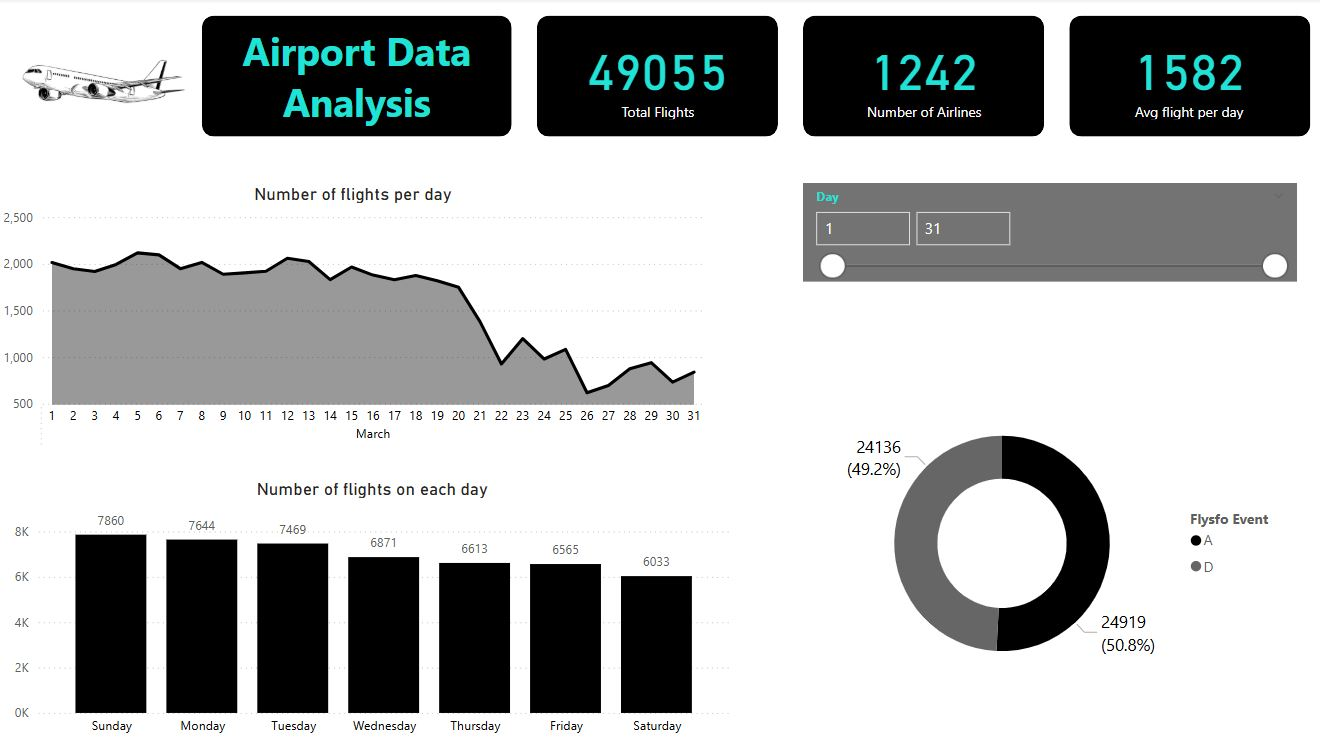

The page's visual inventory and layout, read from the dashboard file:
{"tool":"powerbi","page":{"name":"Dashboard","canvas":[1280,720],"ordinal":0},"visuals":[{"type":"shape","box":[520.1,17.3,232.8,117],"z":0},{"type":"shape","box":[777,17.3,232.8,117],"z":1000},{"type":"shape","box":[1033.6,17.3,232.8,117],"z":2000},{"type":"card","fields":{"Values":["Mearures_Airport.Avg flight per day"]},"box":[1058,29,183.4,92.9],"z":3000},{"type":"image","box":[10.9,0,178.6,152],"z":4000},{"type":"shape","box":[196.9,17.3,299.2,117],"z":5000},{"type":"textbox","box":[206.5,20.8,279.9,113.4],"z":6000},{"type":"card","fields":{"Values":["Mearures_Airport.Number of Airlines"]},"box":[802.3,29,183.4,92.9],"z":7000},{"type":"card","fields":{"Values":["Mearures_Airport.Total Flights"]},"box":[534.5,29,205.1,92.9],"z":8000},{"type":"lineChart","title":"Number of flights per day","fields":{"Y":["CountNonNull(Air travel data.Properties Flysfo Base Airline)"],"Category":["Air travel data.Start of Day.Variation.Date Hierarchy.Month","Air travel data.Start of Day.Variation.Date Hierarchy.Day"]},"box":[0,178.6,685.3,264.2],"z":9000},{"type":"columnChart","title":"Number of flights per day","fields":{"Y":["CountNonNull(Air travel data.Properties Flysfo Base Airline)"],"Category":["Air travel data.Day Name"]},"box":[10.9,463.3,700.9,257],"z":10000},{"type":"slicer","fields":{"Values":["Air travel data.Start of Day.Variation.Date Hierarchy.Day"]},"box":[776.9,178.6,476.5,95.3],"z":11000},{"type":"donutChart","title":"flysfo Event ","fields":{"Category":["Air travel data.Properties Flysfo Event"],"Y":["CountNonNull(Air travel data.Properties Flysfo Event)"]},"box":[783,372.8,464.5,307.6],"z":12000}]}

Visuals, with their boxes in screenshot pixels (x1, y1, x2, y2), scaled from the page's 1280x720 canvas onto the 1320x744 screenshot:
shape: box=[536, 18, 776, 139]
shape: box=[801, 18, 1041, 139]
shape: box=[1066, 18, 1306, 139]
card - Mearures_Airport.Avg flight per day: box=[1091, 30, 1280, 126]
image: box=[11, 0, 195, 157]
shape: box=[203, 18, 512, 139]
textbox: box=[213, 21, 502, 139]
card - Mearures_Airport.Number of Airlines: box=[827, 30, 1017, 126]
card - Mearures_Airport.Total Flights: box=[551, 30, 763, 126]
"Number of flights per day" lineChart: box=[0, 185, 707, 458]
"Number of flights per day" columnChart: box=[11, 479, 734, 743]
slicer - Air travel data.Start of Day.Variation.Date Hierarchy.Day: box=[801, 185, 1293, 283]
"flysfo Event " donutChart: box=[807, 385, 1286, 703]
